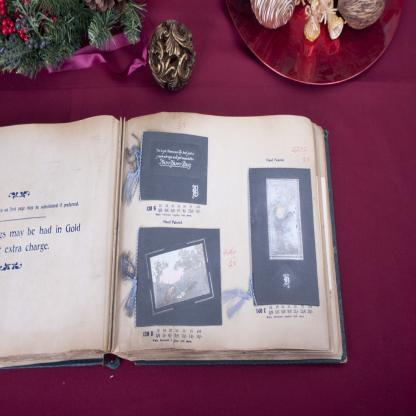book: (0, 112, 347, 372)
